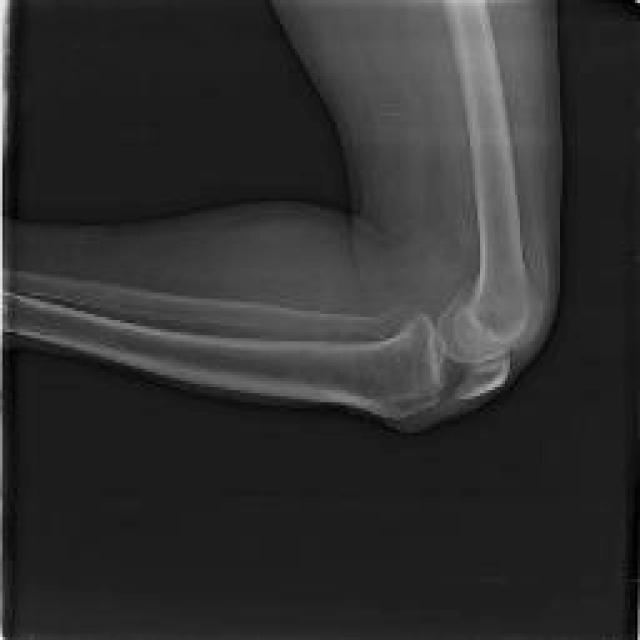normal: (5, 292, 440, 417), (436, 0, 539, 360), (1, 272, 425, 346), (456, 346, 512, 400)
